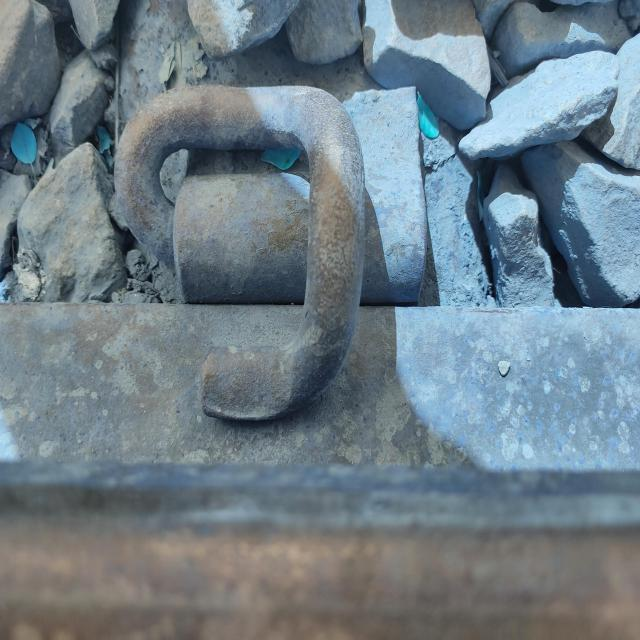Good Fasteners: (106, 62, 460, 434)
